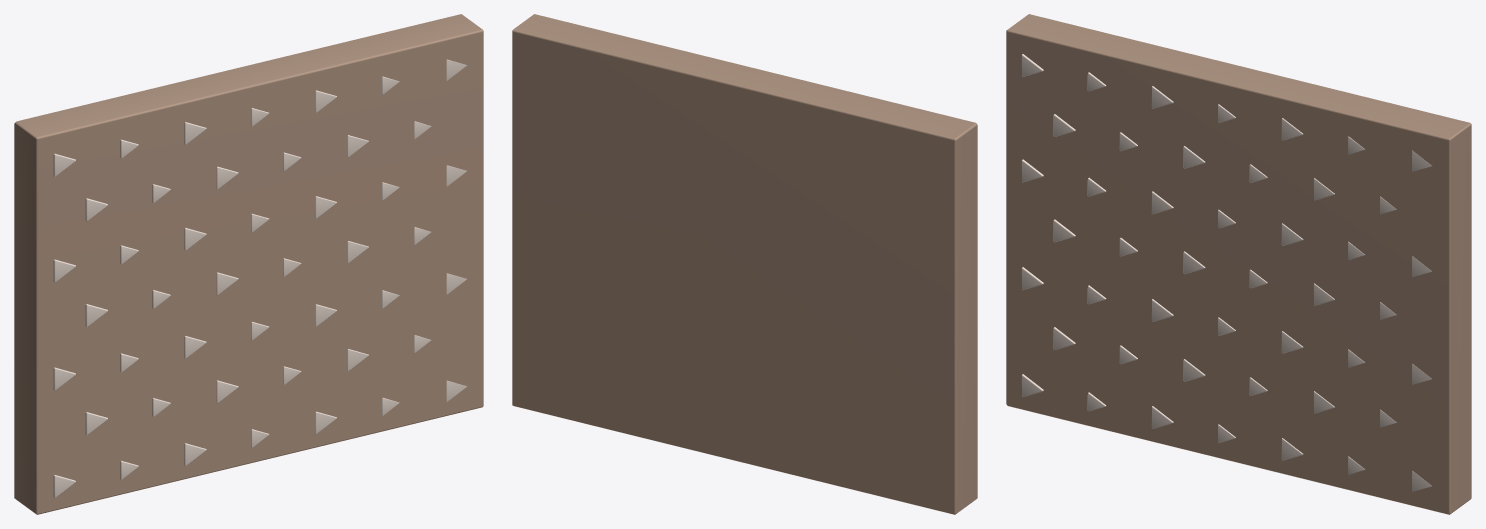
The model's file is Wall_12.glb.
3 renders of one model, left to right at view 1: azimuth 30°, elevation 25°; view 2: azimuth 150°, elevation 25°; view 3: azimuth 330°, elevation 25°, orthographic.
Visible parts, largest first — view 1: Wall_12; view 2: Wall_12; view 3: Wall_12.
Boxes of the visible parts, x1,y1,x2,y2 form: Wall_12: (14, 14, 483, 514); Wall_12: (512, 14, 977, 514); Wall_12: (1006, 14, 1471, 514).
Size of the model in its own units: 4.46 by 3.6 by 0.4215.
1 material, 1 textured.
